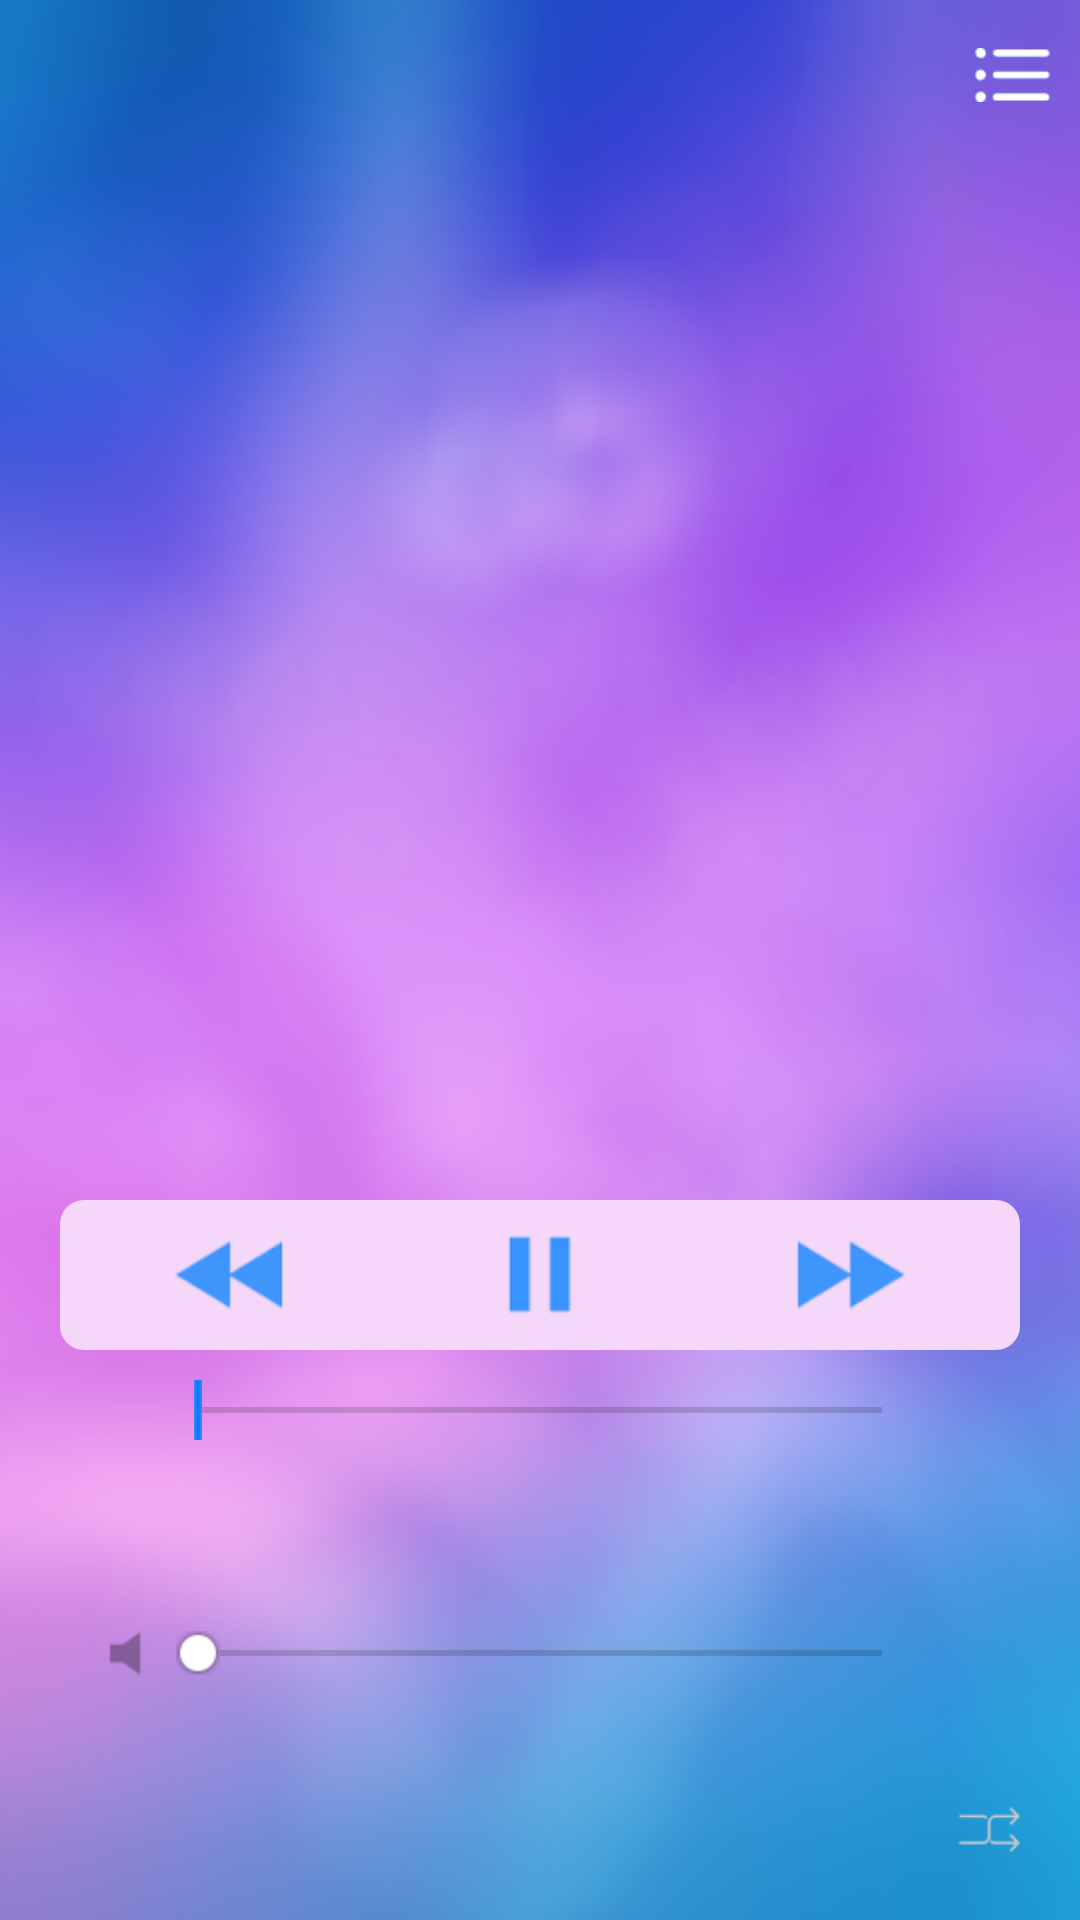

Where to tap for icons on this 1080 × 1920 app screen, as [x,y]:
playlist next song: [852,1275]
playlist pause song: [540,1274]
playlist pre song: [228,1275]
shuffle: [989,1829]
volume: [125,1654]
